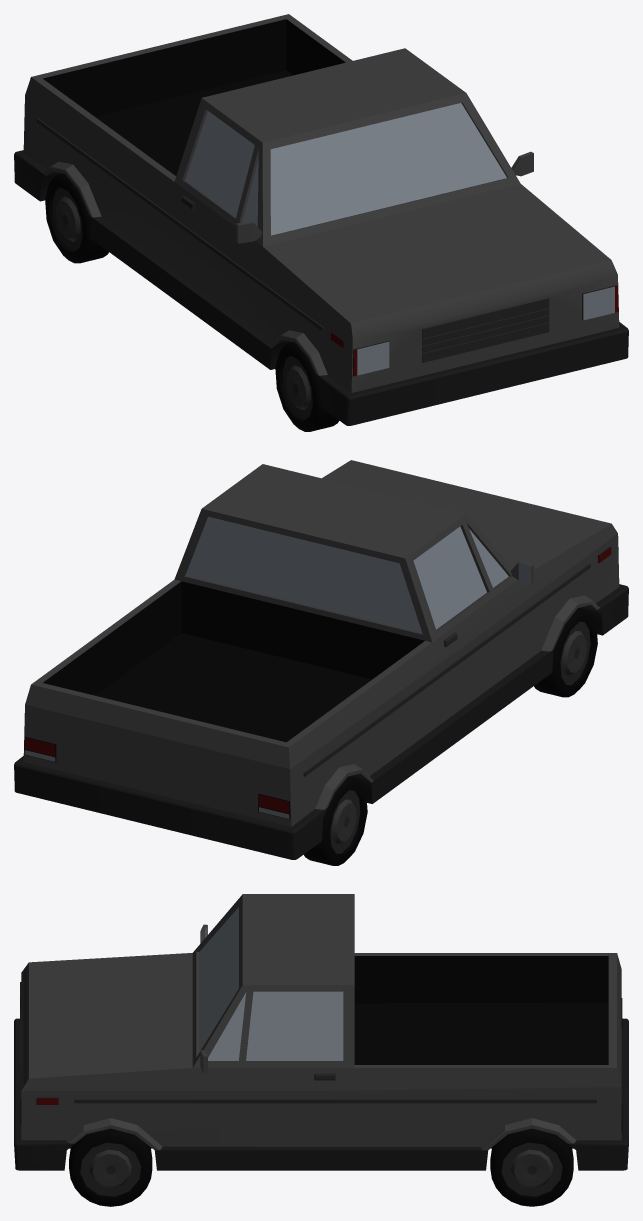
The model's file is Pick-Up_Gray.fbx.
3 views of the same model, one above another, from view 1: azimuth 30°, elevation 25°; view 2: azimuth 150°, elevation 25°; view 3: azimuth 270°, elevation 25° (orthographic). The views are drawn at different scales.
Visible parts, largest first — view 1: Pick-Up_Gray; view 2: Pick-Up_Gray; view 3: Pick-Up_Gray.
Part boxes in pixels (bbox=[...]): Pick-Up_Gray: bbox=[14, 14, 628, 431]; Pick-Up_Gray: bbox=[14, 460, 628, 865]; Pick-Up_Gray: bbox=[14, 894, 628, 1206].
Size of the model in its own units: 210 by 152 by 413.
